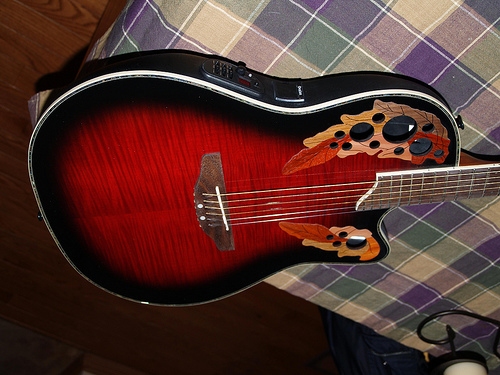guitar: (28, 49, 500, 312)
